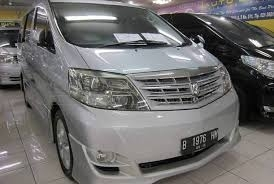plate: (183, 129, 219, 154)
